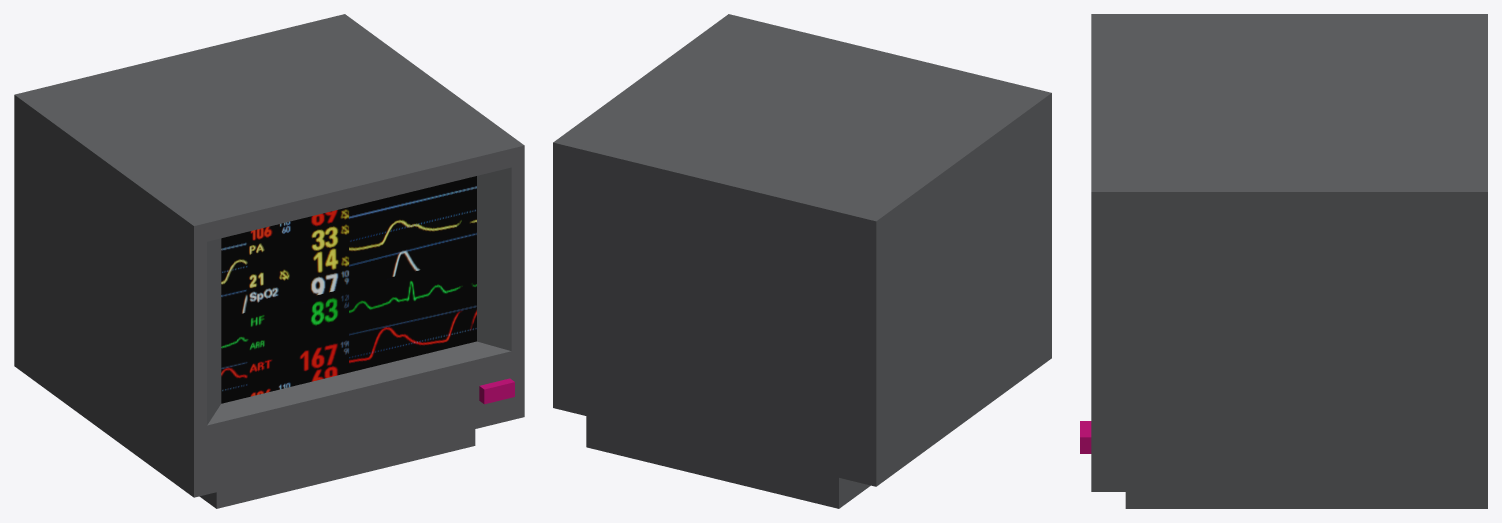
File: ekg monitor.fbx
3 views of the same model, side by side, from view 1: azimuth 30°, elevation 25°; view 2: azimuth 150°, elevation 25°; view 3: azimuth 270°, elevation 25° (orthographic). The views are drawn at different scales.
Parts seen in each view (by area): view 1: pCube1, pCube2, pCube3; view 2: pCube1, pCube2; view 3: pCube1, pCube2.
Part boxes in pixels (<box>): pCube1: <box>14,14,524,497</box>; pCube2: <box>199,429,475,508</box>; pCube3: <box>479,378,514,404</box>; pCube1: <box>553,14,1051,486</box>; pCube2: <box>586,399,870,508</box>; pCube1: <box>1091,14,1487,491</box>; pCube2: <box>1125,492,1487,508</box>.
Size of the model in its own units: 6.37 by 5.59 by 6.17.
Materials: 3 (1 with a texture image).
